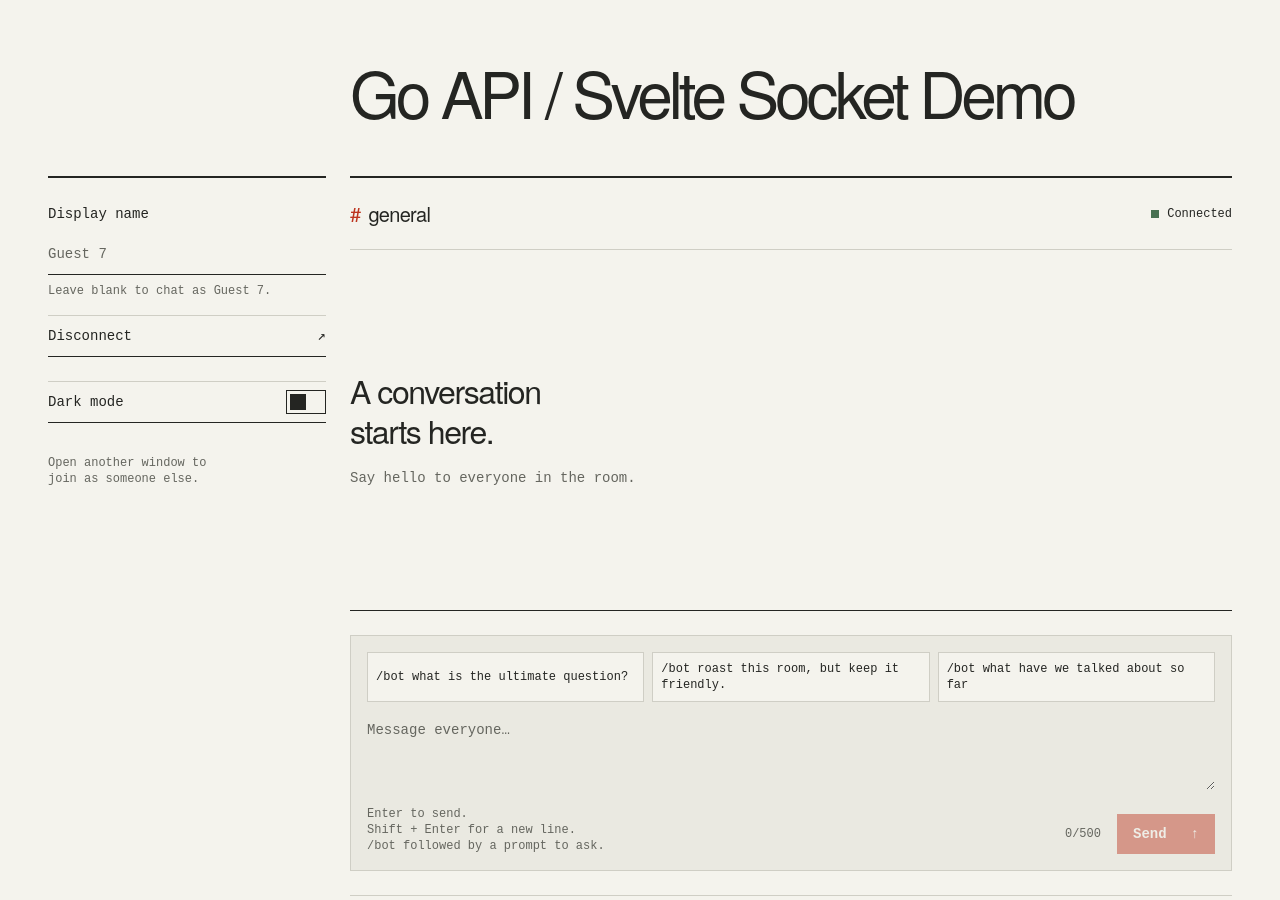
Test case: shared chatroom › sends bot commands and tracks queued requests without duplicating jobs
The width and height of the screenshot is (1280, 900).
Type "/bot claude Explain sockets" into the text box with placeholder "Message everyone…".
click(791, 754); type("/bot claude Explain sockets")  # box x1=367 y1=718 x2=1215 y2=790
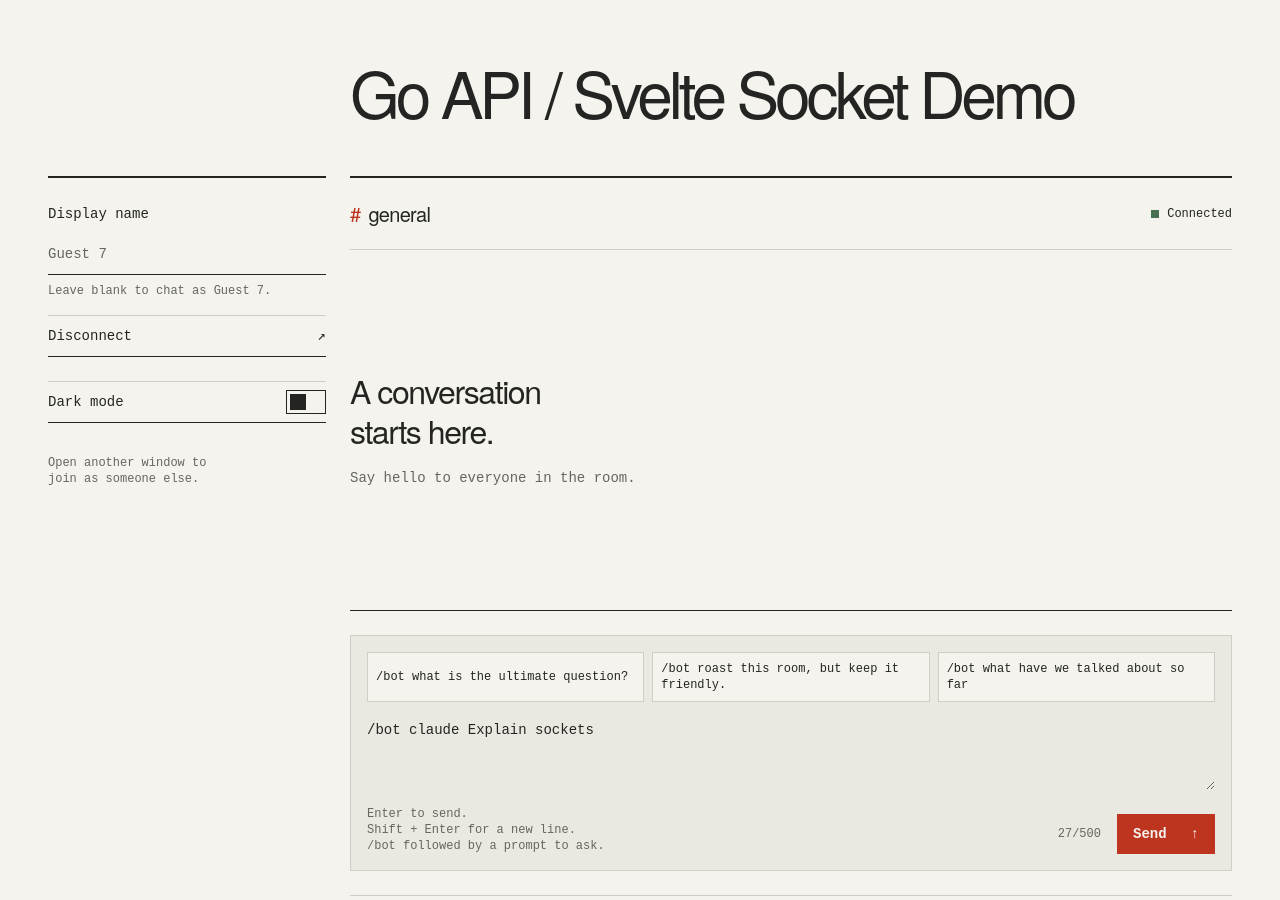
Submit the form, box x1=350 y1=635 x2=1232 y2=871
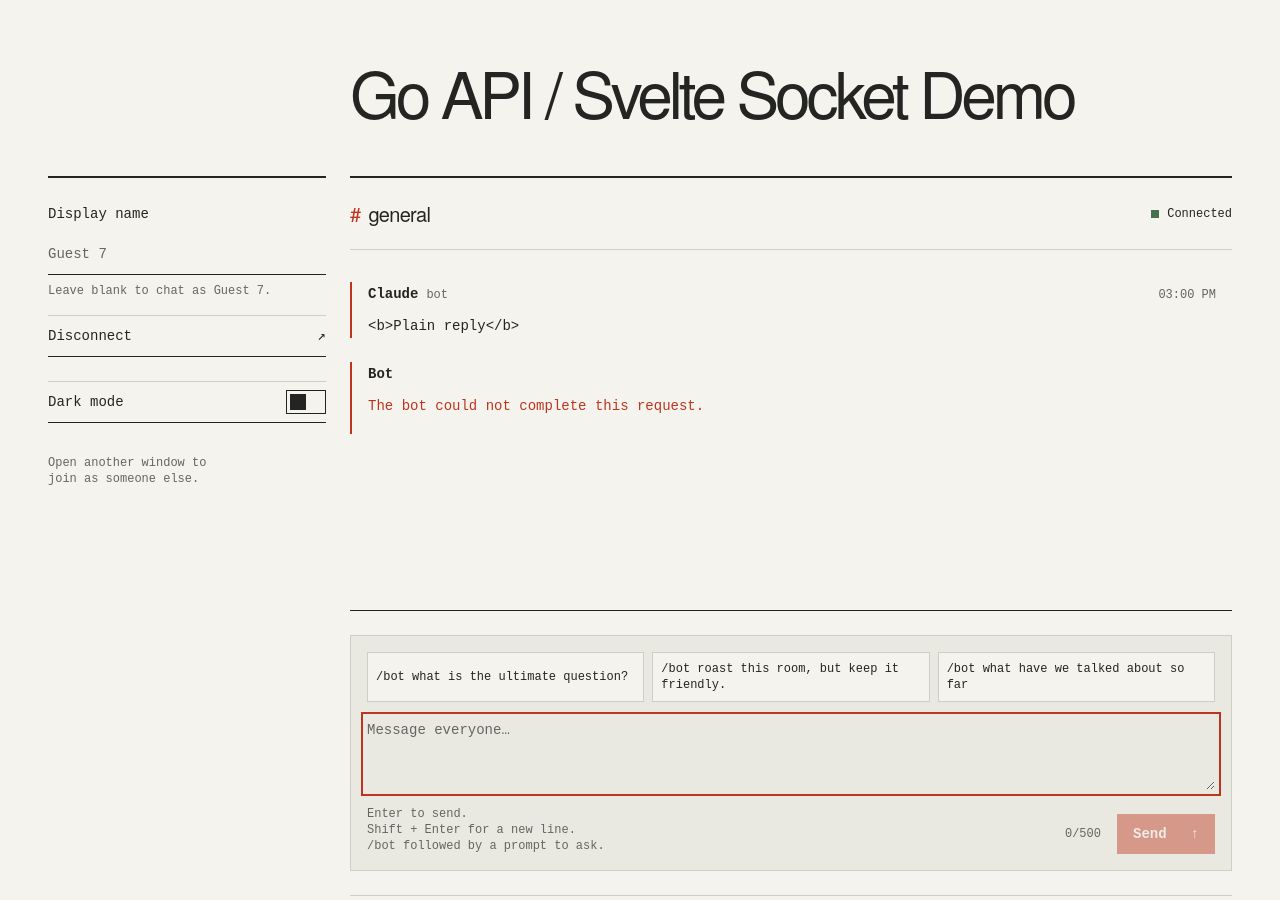
expect the text with class "you-label" reads "bot": met, box x1=426 y1=288 x2=448 y2=302
